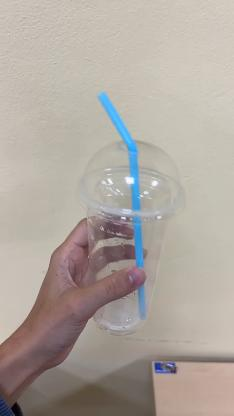Plastic Cup: (79, 141, 185, 336)
